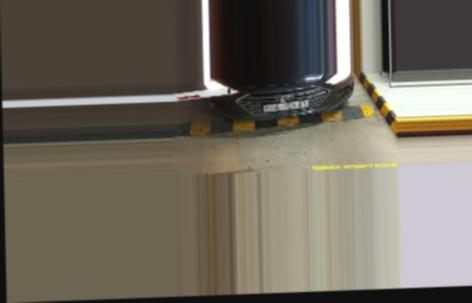License_Plate: (261, 101, 311, 113)
